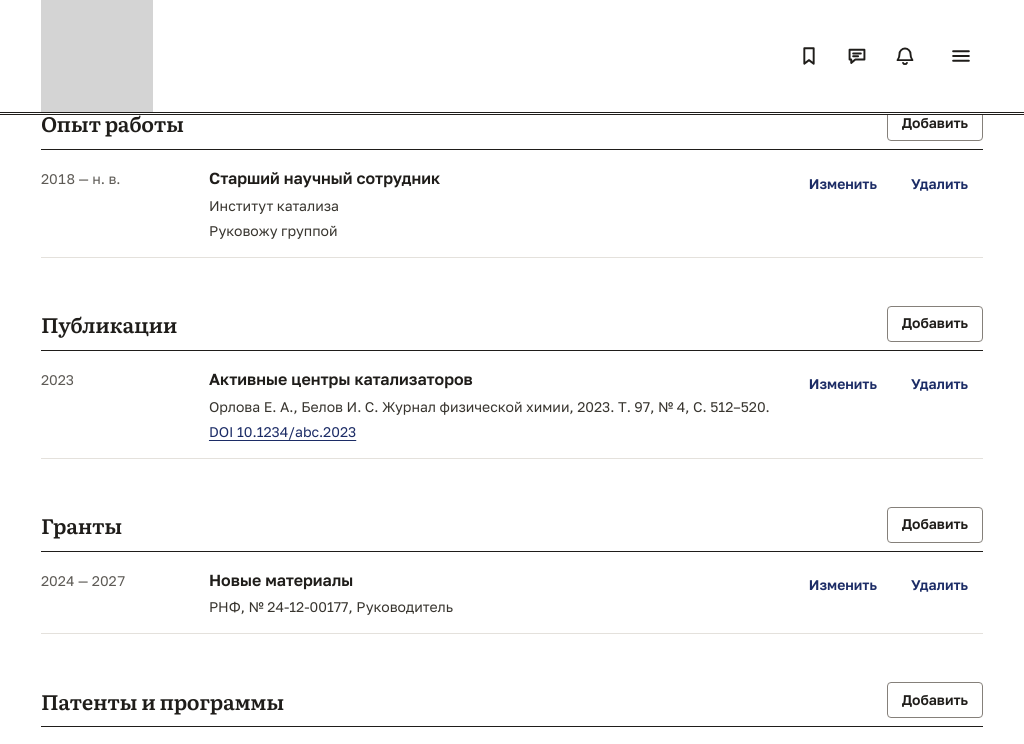
journal picker in the publication window › tells that a journal with this ISSN is not in the catalog
(page scrolled)
Click the 2nd button "Изменить". click: (843, 385)
box: [794,367,892,403]
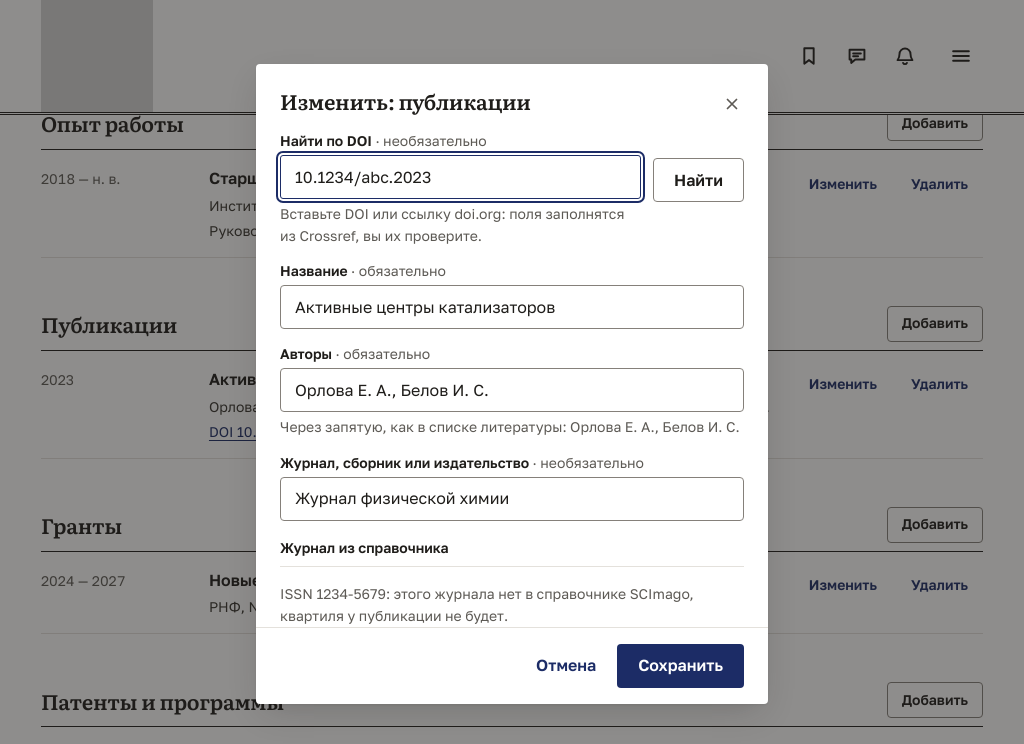
Result: the text "ISSN 1234-5679: этого журнала нет в справочнике SCImago" is shown at [280,585,694,624]
